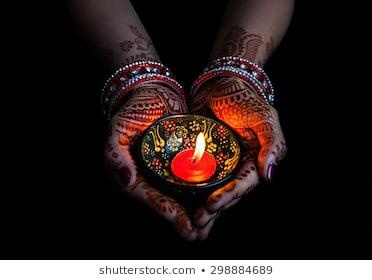fire: (190, 129, 212, 159)
